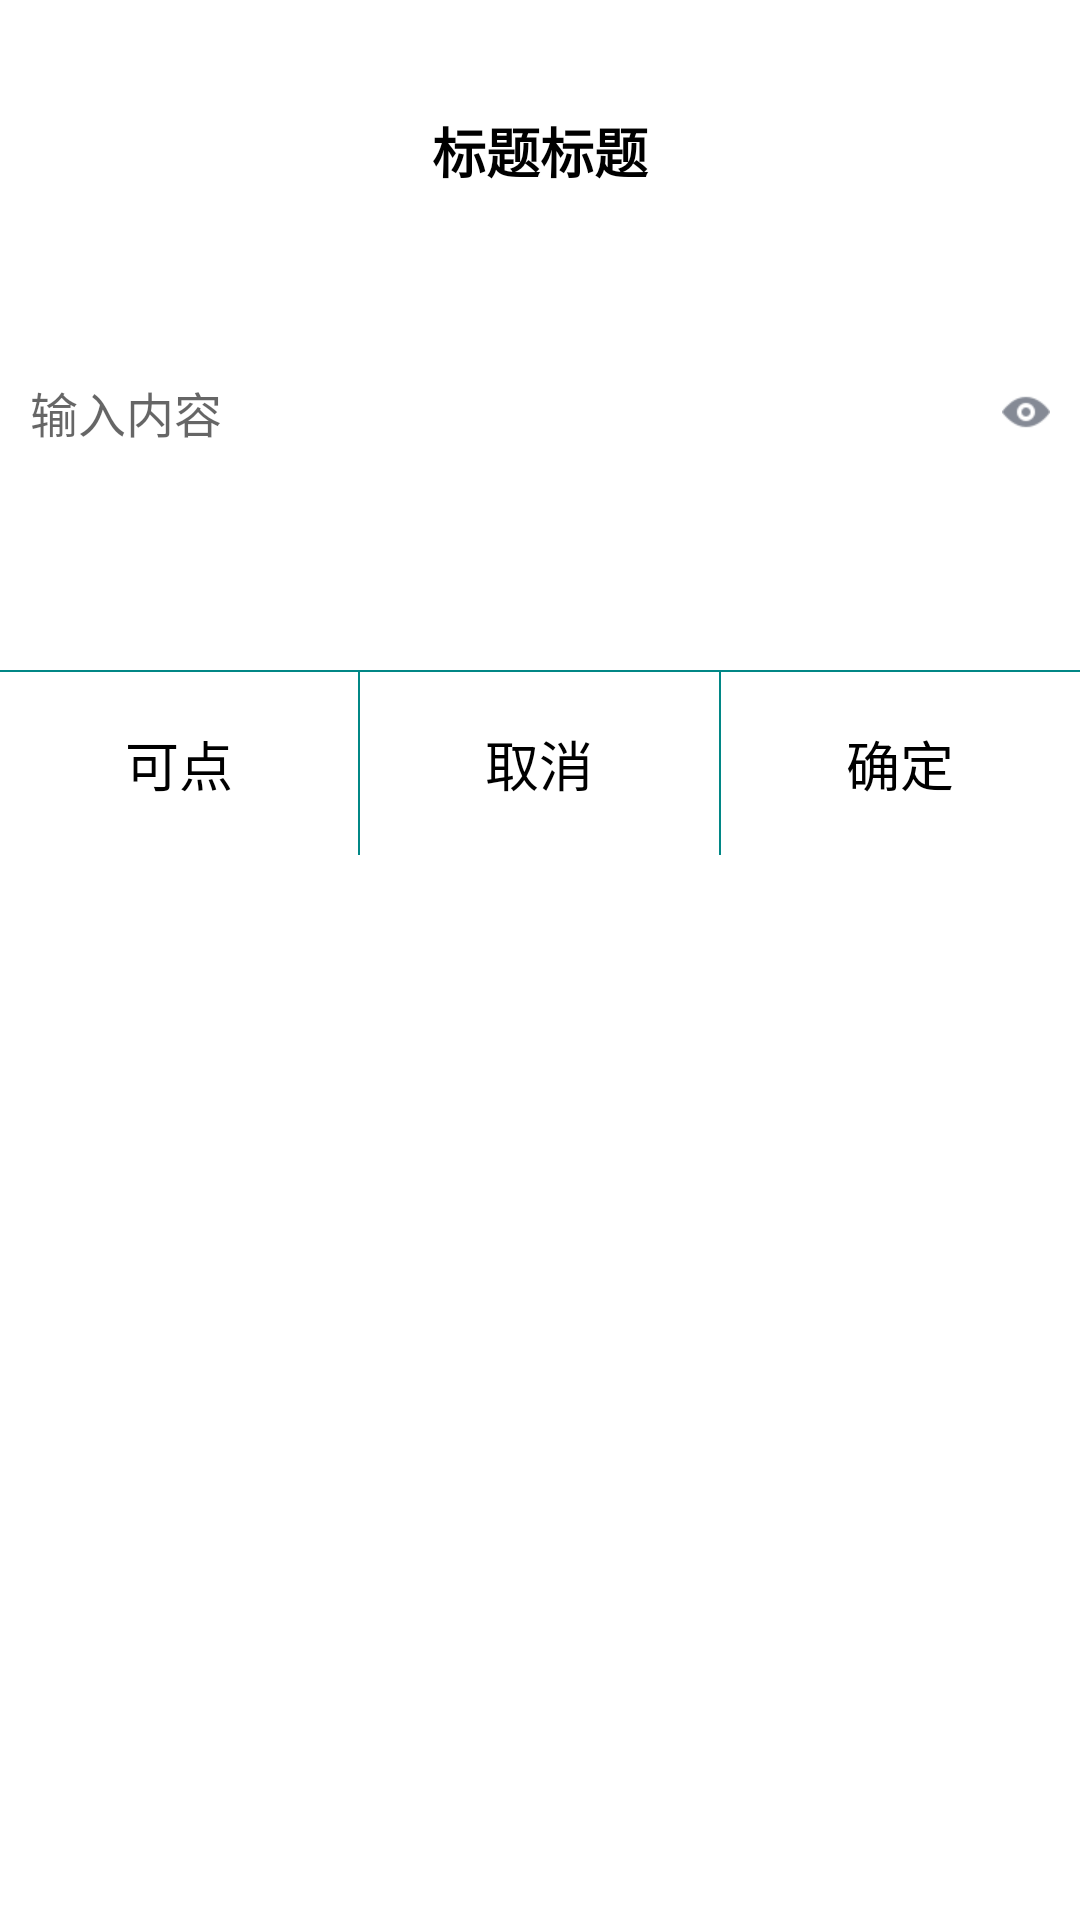

Icons on this 1080 x 1920 Android screen, each with the point to tap as (x=x, y=y):
eye: (x=1026, y=412)
